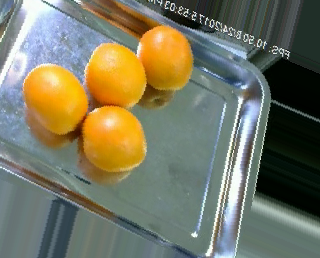Orange: (22, 58, 88, 135), (81, 106, 146, 172), (85, 43, 147, 109), (136, 24, 194, 90)
